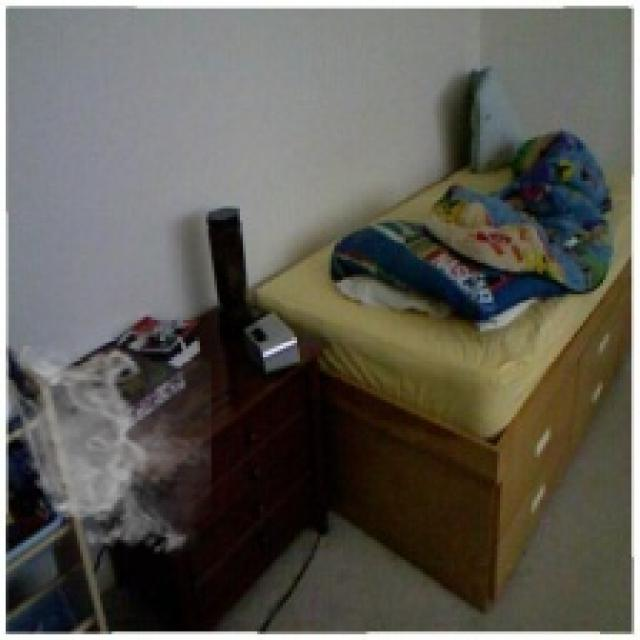smoke: (6, 346, 211, 560)
